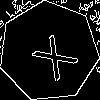X: (24, 26, 79, 83)
